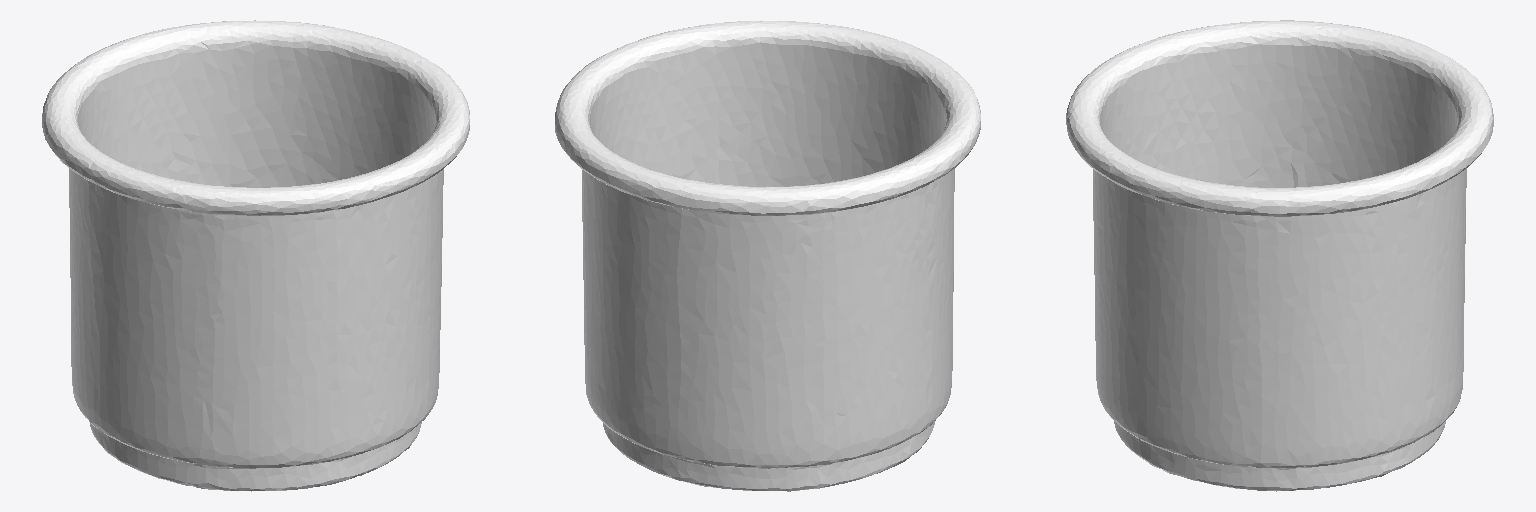
robot.urdf — 018_plum:
<robot name="018_plum">
	<link name="_name">
		<visual>
			<origin xyz="0.07742611303817823 -0.1949223166858234 -0.23720337525360752" rpy="0 0 0" />
			<geometry>
				<mesh filename="018_plum/google_16k/textured.obj" scale="10 10 10" />
			</geometry>
			<material name="texture">
				<color rgba="1.0 1.0 1.0 1.0" />
			</material>
		</visual>
		<collision>
			<geometry>
				<mesh filename="018_plum/google_16k/textured_vhacd.obj" scale="10 10 10" />
			</geometry>
		<origin xyz="0.07742611303817823 -0.1949223166858234 -0.23720337525360752" rpy="0 0 0" /></collision>
		<inertial>
			<mass value="1.0" />
			<inertia ixx="1.0" ixy="0.0" ixz="0.0" iyy="1.0" iyz="0.0" izz="1.0" />
		</inertial>
	</link>
</robot>

--- Render facts (derived) ---
3 views of the same robot in one strip: view 1: azimuth 30°, elevation 25°; view 2: azimuth 150°, elevation 25°; view 3: azimuth 270°, elevation 25° (orthographic).
Robot: 018_plum — 1 links, 0 joints (none); root link _name; default pose: every joint at zero.
Links seen in each view (by area): view 1: _name; view 2: _name; view 3: _name.
Link boxes in pixels (box(x1,y1,x2,y2)): _name: box(42, 20, 469, 491); _name: box(555, 20, 980, 491); _name: box(1066, 20, 1493, 491).
Size in the robot's own frame: 0.915 by 0.9162 by 0.7506 metres.
Meshes: 1 distinct files referenced, 1 mesh visuals loaded (1 OBJ).